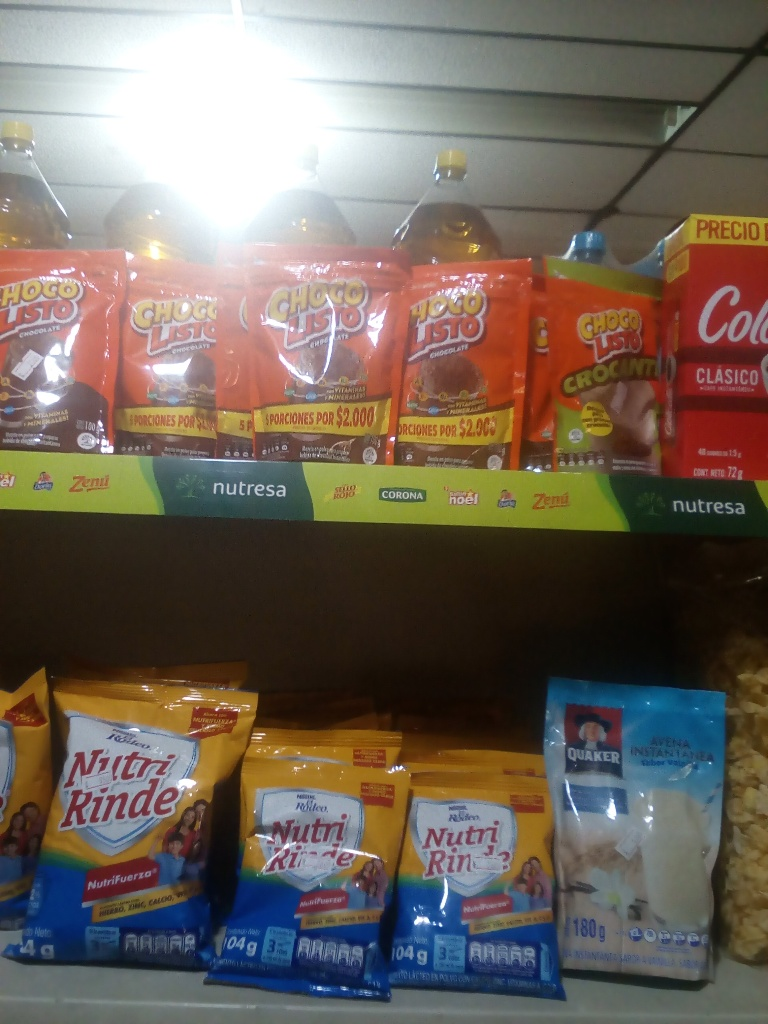COL0170102DYP10000: (533, 242, 667, 478)
